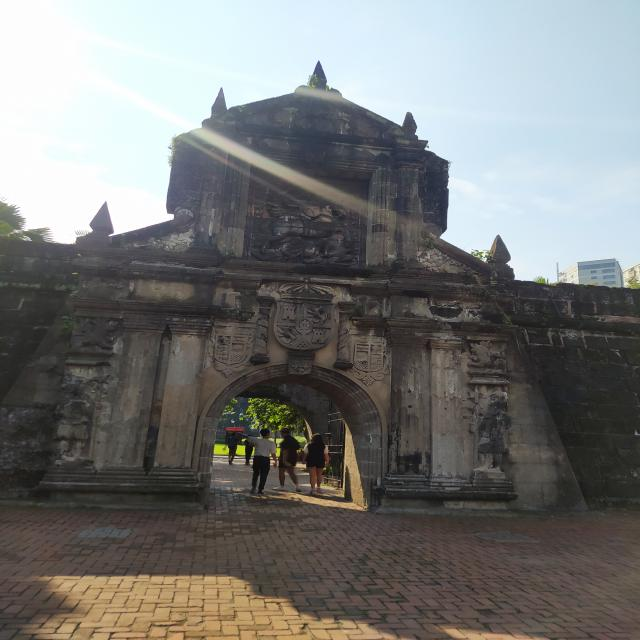Fort Santiago: (0, 66, 640, 510)
